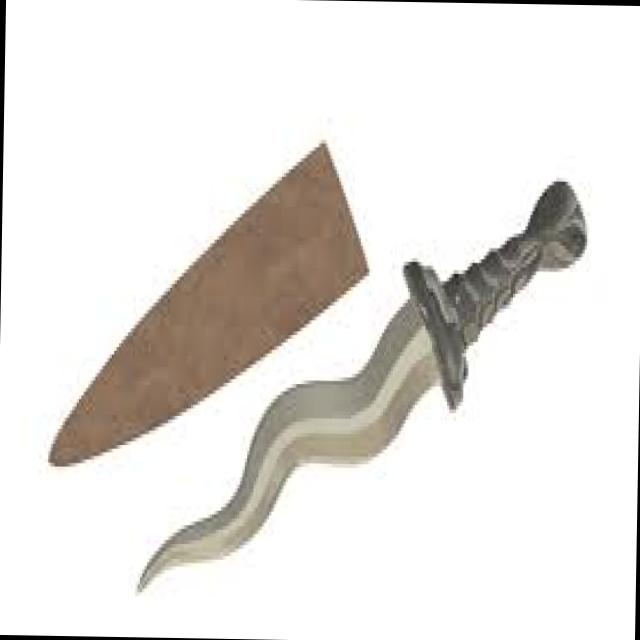Gun: (17, 114, 620, 613)
